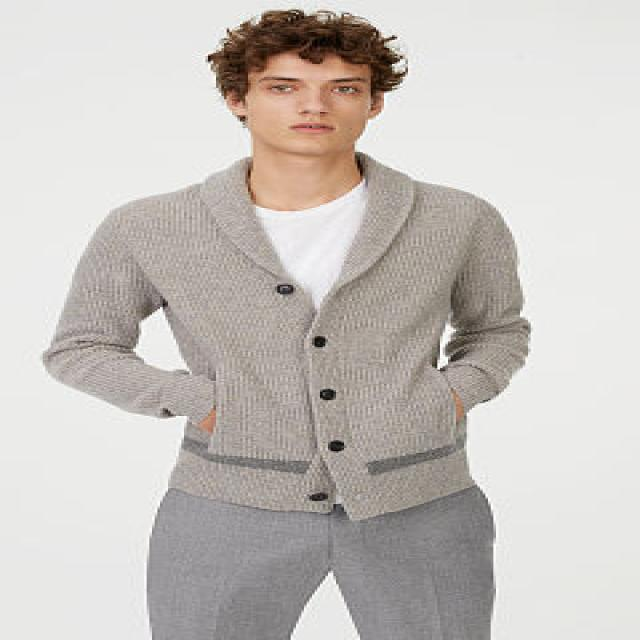mobile_phonerotation: (40, 6, 533, 638)
